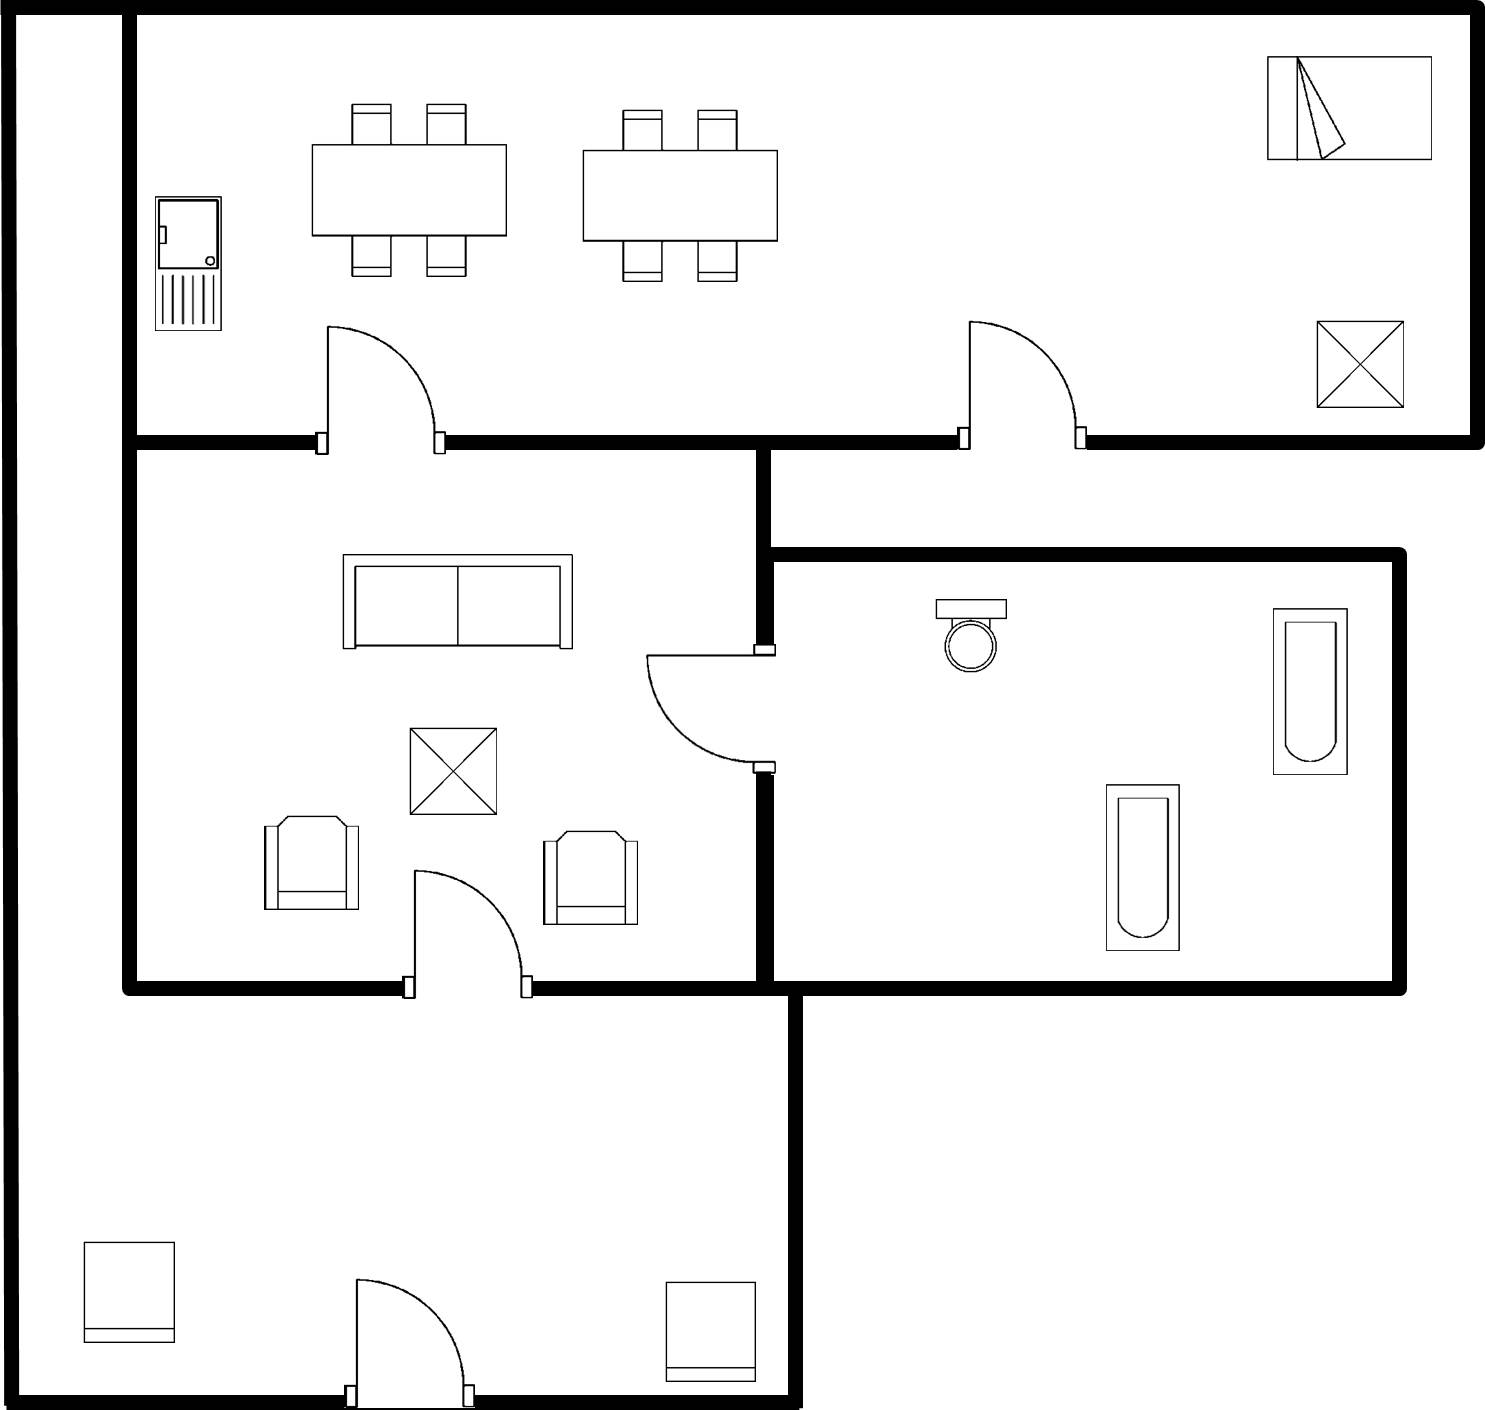armchair: (251, 809, 373, 923), (533, 817, 644, 939)
bed: (1258, 45, 1440, 175)
coffee_table: (397, 716, 512, 825), (1304, 313, 1412, 414)
dining_table: (297, 93, 522, 294), (573, 101, 790, 291)
large_sink: (925, 588, 1015, 682)
large_sofa: (332, 545, 582, 664)
sink: (144, 186, 236, 343)
small_sofa: (74, 1231, 186, 1353), (658, 1275, 764, 1391)
tub: (1090, 772, 1192, 962), (1258, 598, 1359, 787)
